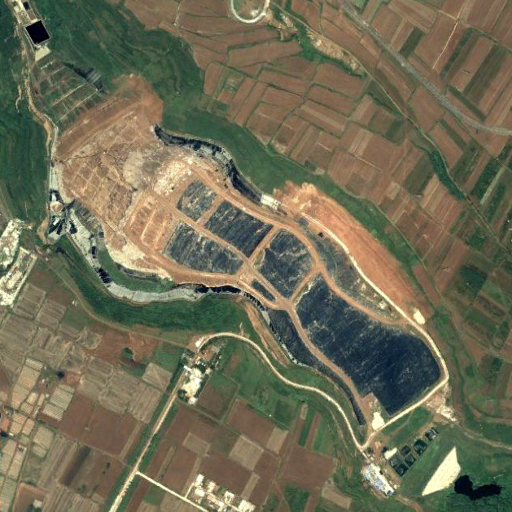lf: (64, 105, 448, 429)
